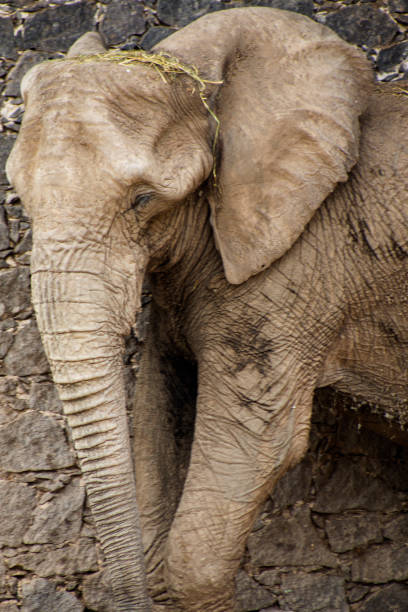africanelephant: (1, 18, 297, 554)
